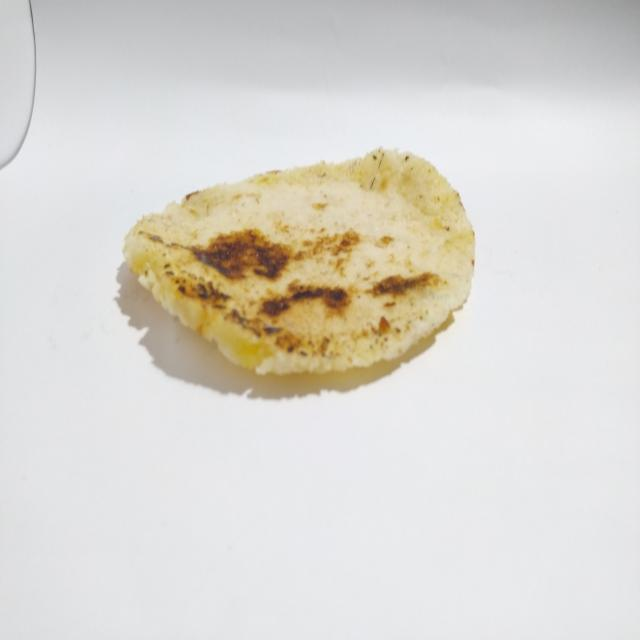Food: (112, 139, 480, 390)
